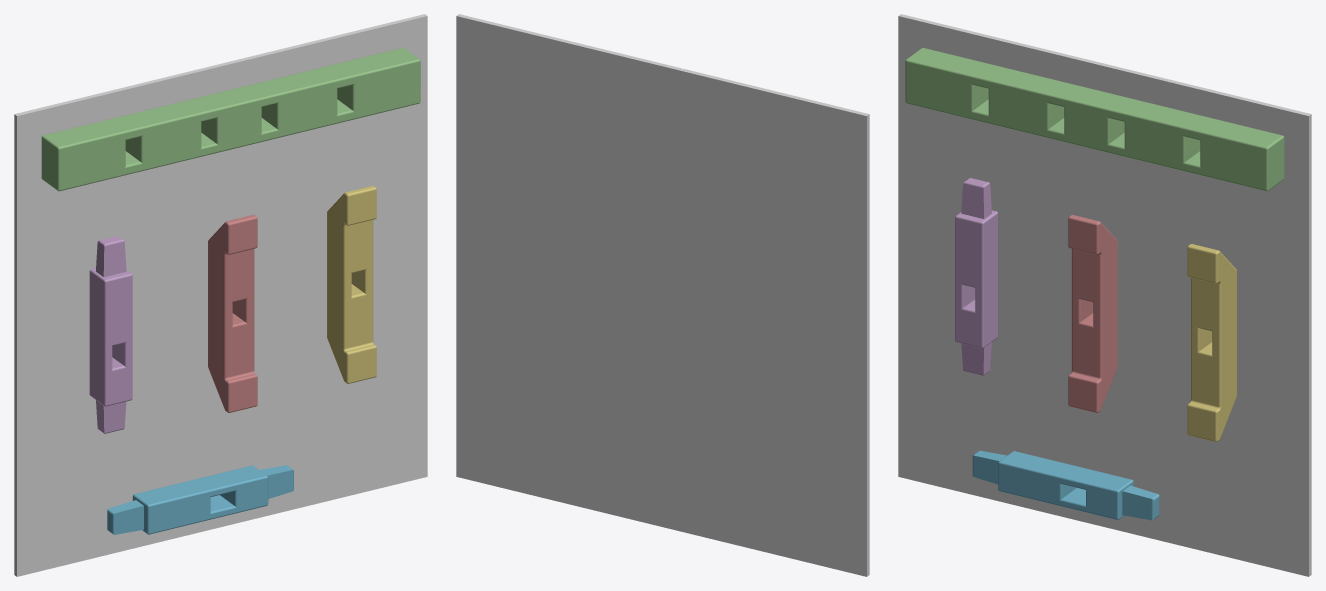
File: pickup_layout.glb
3 renders of one model, left to right at view 1: azimuth 30°, elevation 25°; view 2: azimuth 150°, elevation 25°; view 3: azimuth 330°, elevation 25°, orthographic.
Visible parts, largest first — view 1: world, 6.obj, 0.obj, 1.obj, 3.obj, 2.obj; view 2: world; view 3: world, 6.obj, 0.obj, 1.obj, 3.obj, 2.obj.
Boxes of the visible parts, bbox=[...] form: world: bbox=[14, 14, 427, 576]; 6.obj: bbox=[41, 47, 420, 191]; 0.obj: bbox=[208, 214, 257, 412]; 1.obj: bbox=[327, 185, 376, 383]; 3.obj: bbox=[89, 236, 132, 433]; 2.obj: bbox=[107, 465, 293, 534]; world: bbox=[456, 14, 869, 576]; world: bbox=[898, 14, 1311, 576]; 6.obj: bbox=[905, 47, 1284, 191]; 0.obj: bbox=[1068, 214, 1117, 412]; 1.obj: bbox=[1187, 244, 1236, 441]; 3.obj: bbox=[955, 178, 997, 375]; 2.obj: bbox=[972, 450, 1159, 520].
Size of the model in its own units: 17.24 by 18.49 by 1.72.
